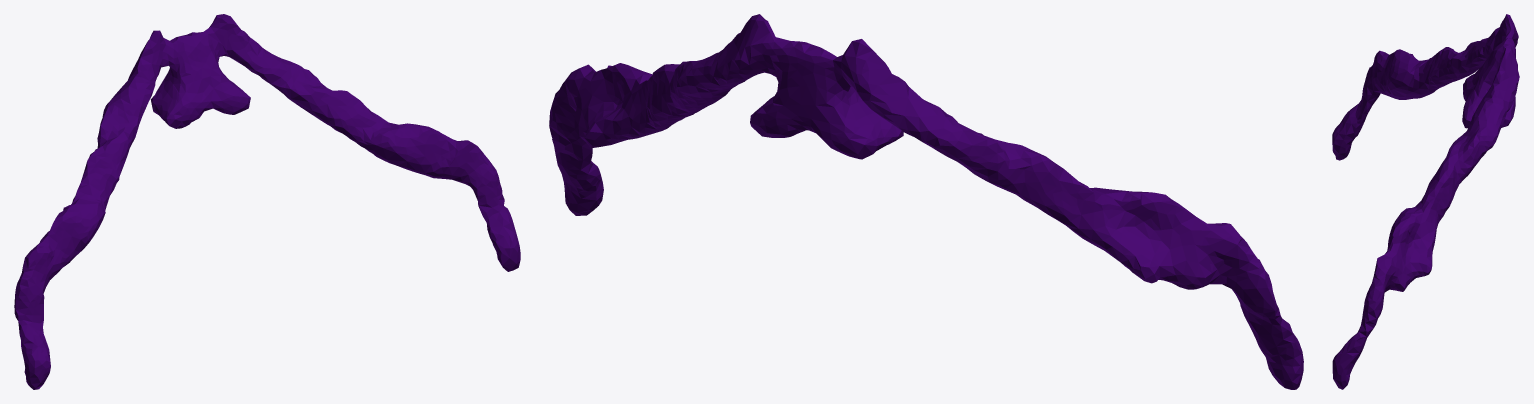
Rendered from 44-3a-area 3a of cortex (somatosensory)-('0.3059', '0.0000', '0.4980').obj.
The picture shows the model from 3 angles, left to right: view 1: azimuth 30°, elevation 25°; view 2: azimuth 150°, elevation 25°; view 3: azimuth 270°, elevation 25°; orthographic projection. The views are drawn at different scales.
Size of the model in its own units: 337 by 162 by 112.
